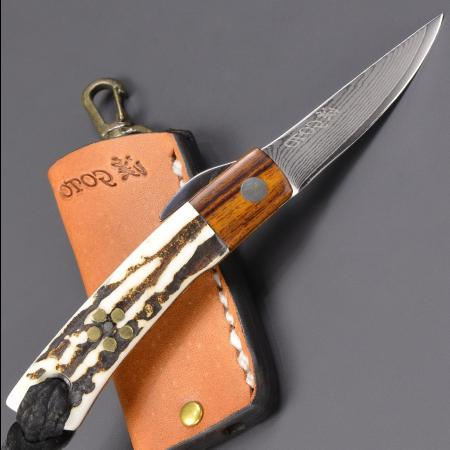long weapon: (227, 9, 445, 203)
